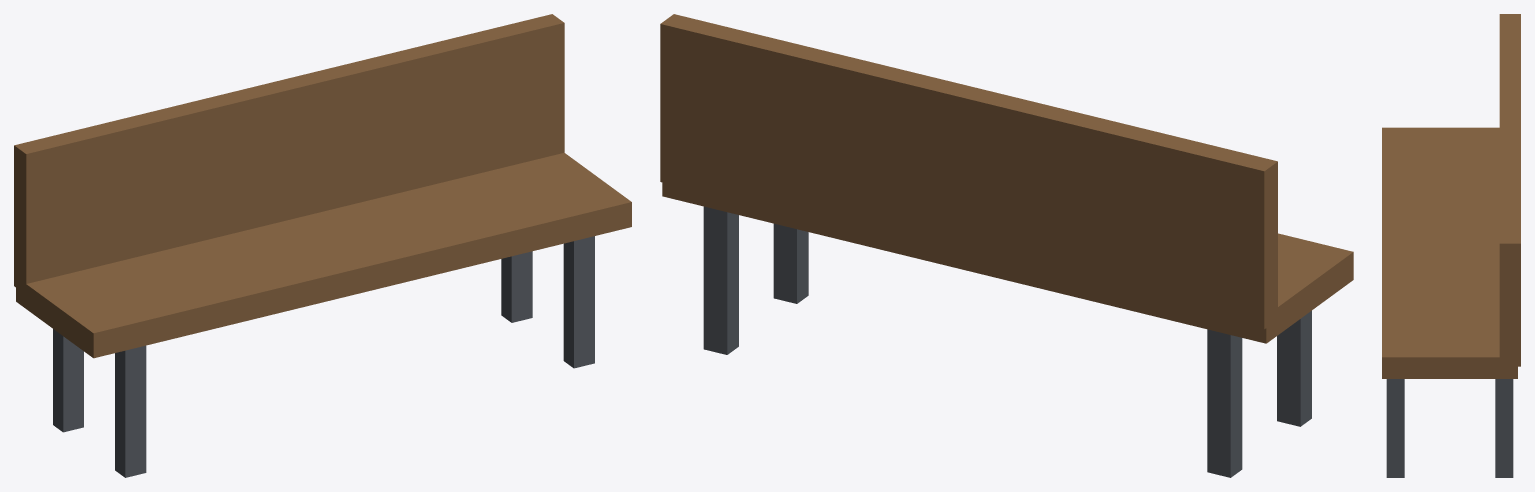
File: bench.glb
3 views of the same model, side by side, from view 1: azimuth 30°, elevation 25°; view 2: azimuth 150°, elevation 25°; view 3: azimuth 270°, elevation 25° (orthographic). The views are drawn at different scales.
Parts seen in each view (by area): view 1: bench; view 2: bench; view 3: bench.
Part boxes in pixels (x1=…): bench: x1=14, y1=14, x2=631, y2=477; bench: x1=660, y1=14, x2=1353, y2=477; bench: x1=1382, y1=14, x2=1520, y2=477.
Bounding box in the file's own units: 1.8 × 0.91 × 0.46.
